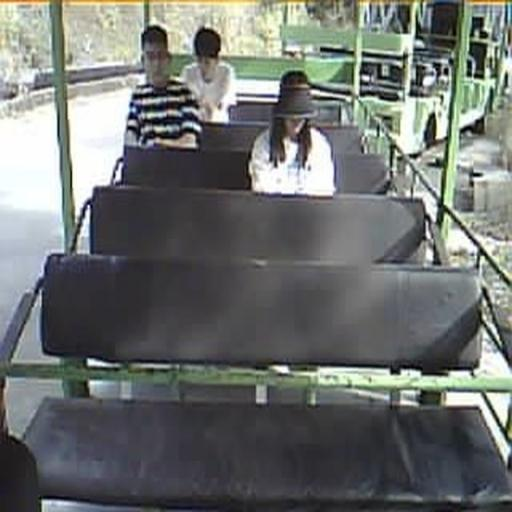persona: (122, 24, 204, 161), (248, 82, 337, 196), (180, 26, 237, 123)
